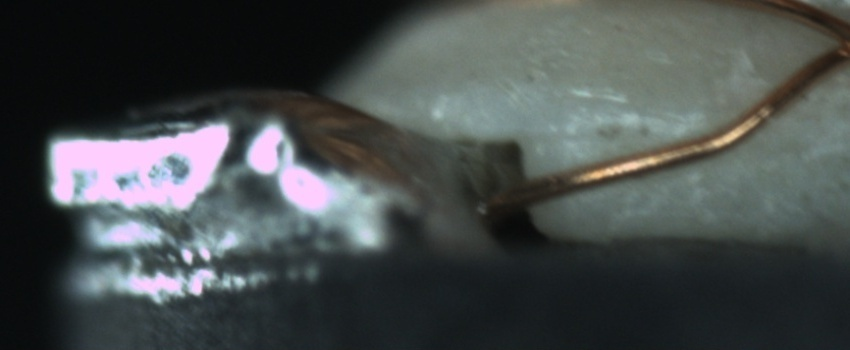CL: (810, 10, 850, 79)
DL: (548, 96, 722, 160)
